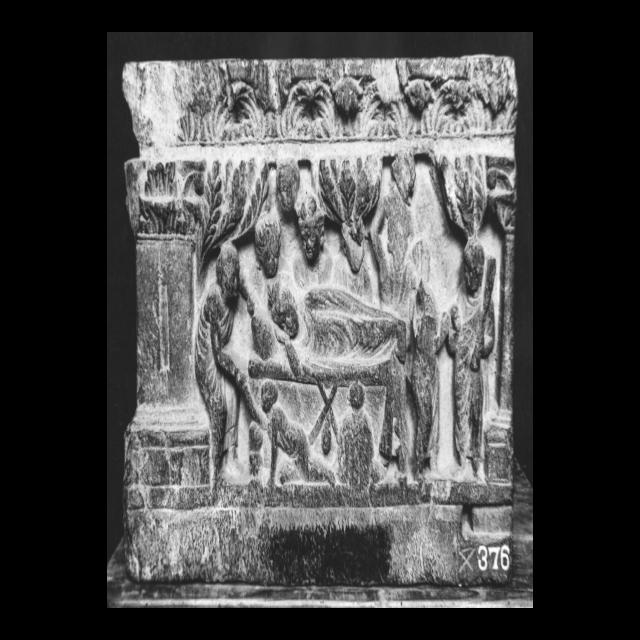buddha-sleeping: (249, 280, 406, 478)
